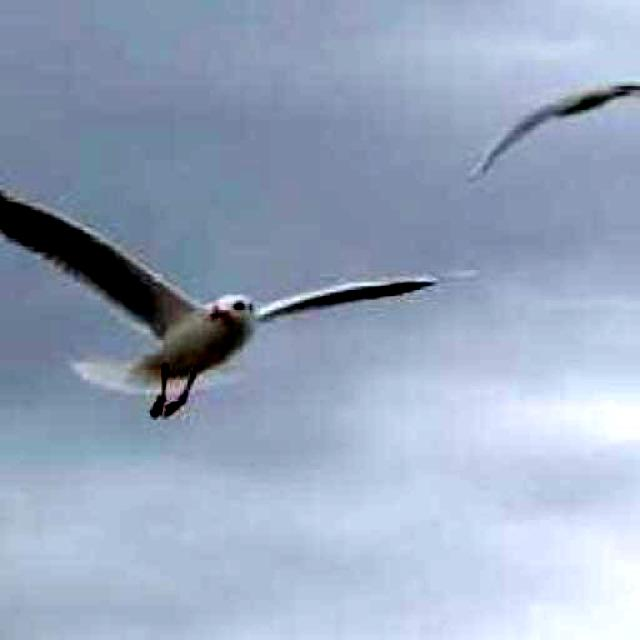airplane: (0, 140, 478, 420), (479, 80, 640, 176)
